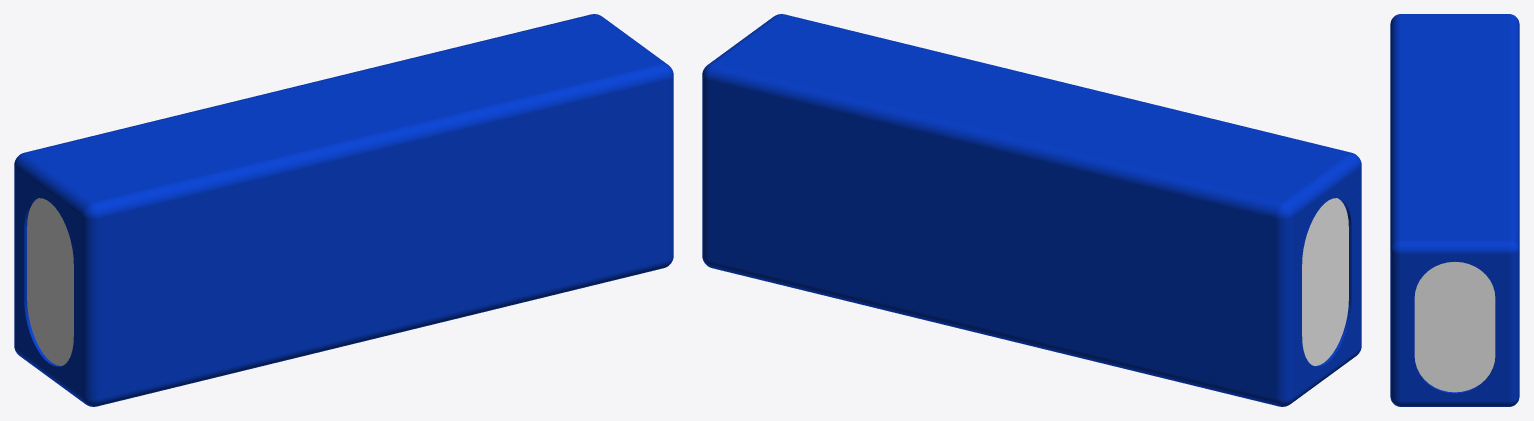
File: Turnigy_2200mAh_3S_20C_Lipo_Pack.dae
The picture shows the model from 3 angles, left to right: view 1: azimuth 30°, elevation 25°; view 2: azimuth 150°, elevation 25°; view 3: azimuth 270°, elevation 25°; orthographic projection. The views are drawn at different scales.
Visible parts, largest first — view 1: Turnigy_2200mAh_3S_20C_Lipo_Pack, _ncl1_3; view 2: Turnigy_2200mAh_3S_20C_Lipo_Pack, _ncl1_3; view 3: Turnigy_2200mAh_3S_20C_Lipo_Pack, _ncl1_3.
Part boxes in pixels (<box>): Turnigy_2200mAh_3S_20C_Lipo_Pack: <box>14,14,673,406</box>; _ncl1_3: <box>27,198,73,365</box>; Turnigy_2200mAh_3S_20C_Lipo_Pack: <box>702,14,1361,406</box>; _ncl1_3: <box>1302,198,1348,365</box>; Turnigy_2200mAh_3S_20C_Lipo_Pack: <box>1390,14,1519,406</box>; _ncl1_3: <box>1414,262,1495,392</box>.
Bounding box in the file's own units: 0.103 × 0.034 × 0.024.
